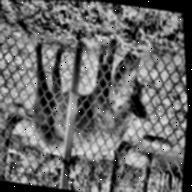boar: (40, 44, 165, 173)
